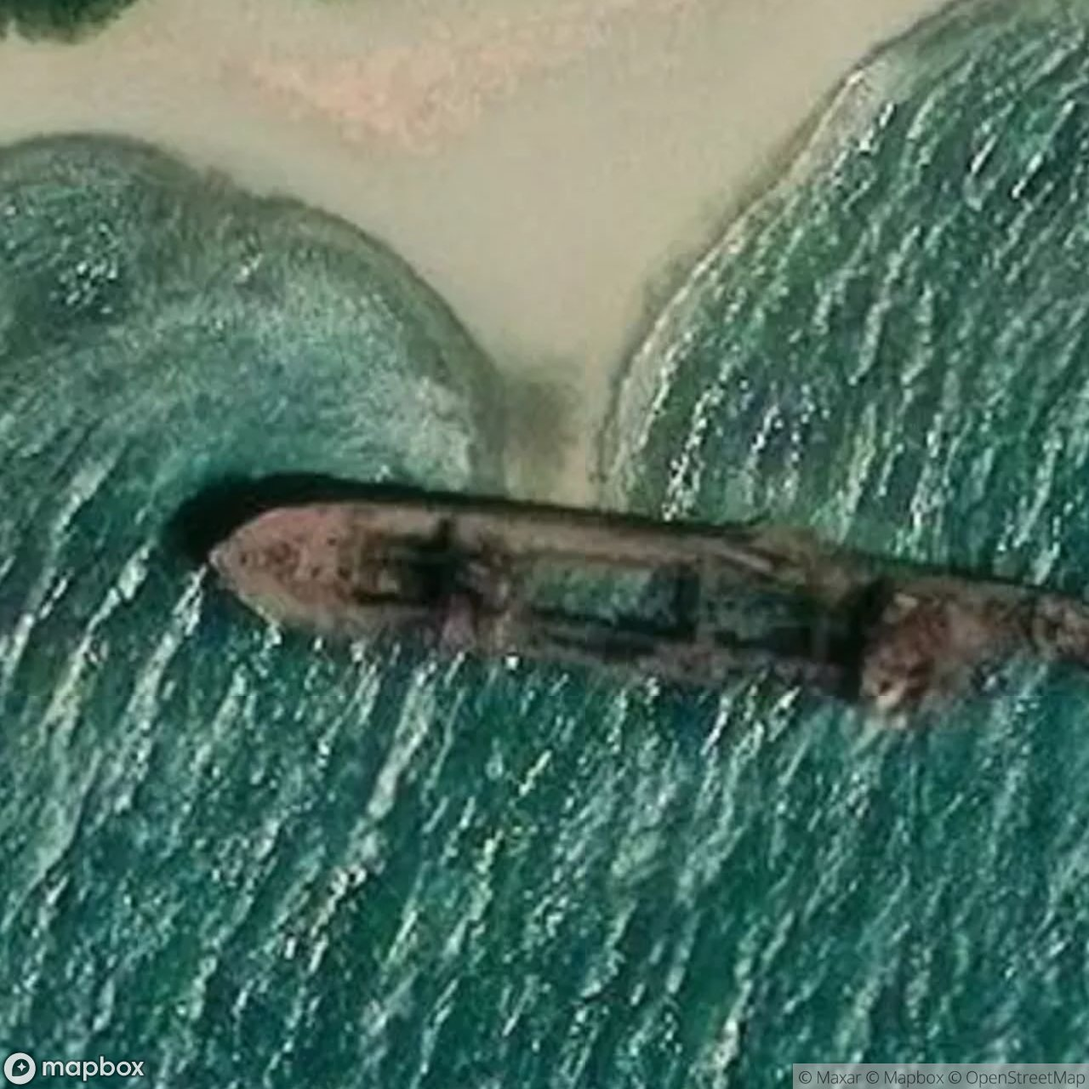Wreck: (145, 462, 1089, 719)
